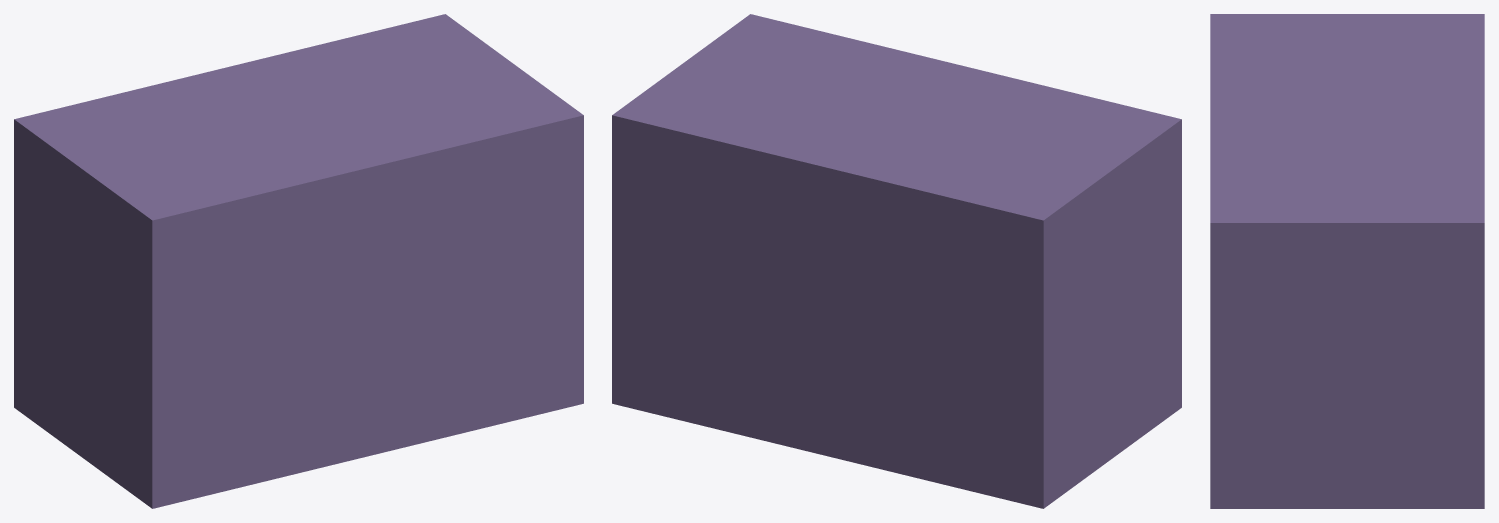
Rendered from boss_shadow_light.glb.
3 views of the same model, side by side, from view 1: azimuth 30°, elevation 25°; view 2: azimuth 150°, elevation 25°; view 3: azimuth 270°, elevation 25° (orthographic).
Visible parts, largest first — view 1: geometry_0; view 2: geometry_0; view 3: geometry_0.
Part boxes in pixels (x1,y1,x2,y2): geometry_0: [14, 14, 583, 508]; geometry_0: [612, 14, 1181, 508]; geometry_0: [1210, 14, 1484, 508].
Bounding box in the file's own units: 1.8 × 1.15 × 1.
